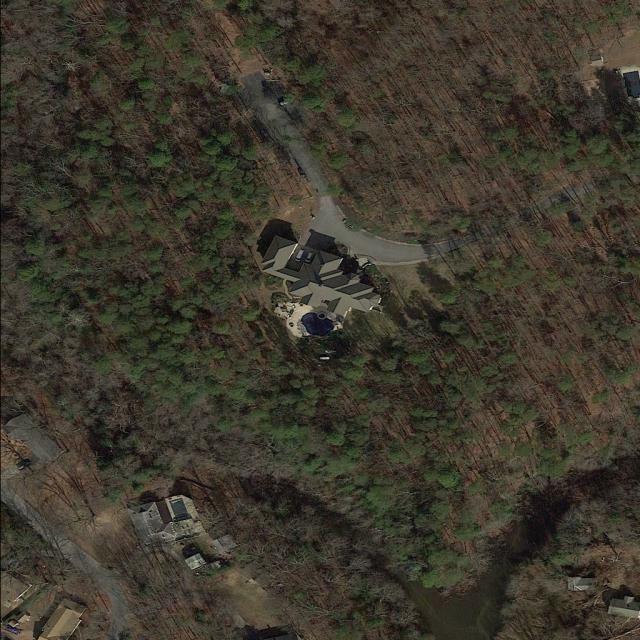small-vehicle: (16, 459, 32, 471), (341, 218, 354, 229), (304, 251, 315, 264), (295, 249, 305, 262), (279, 98, 292, 107)
